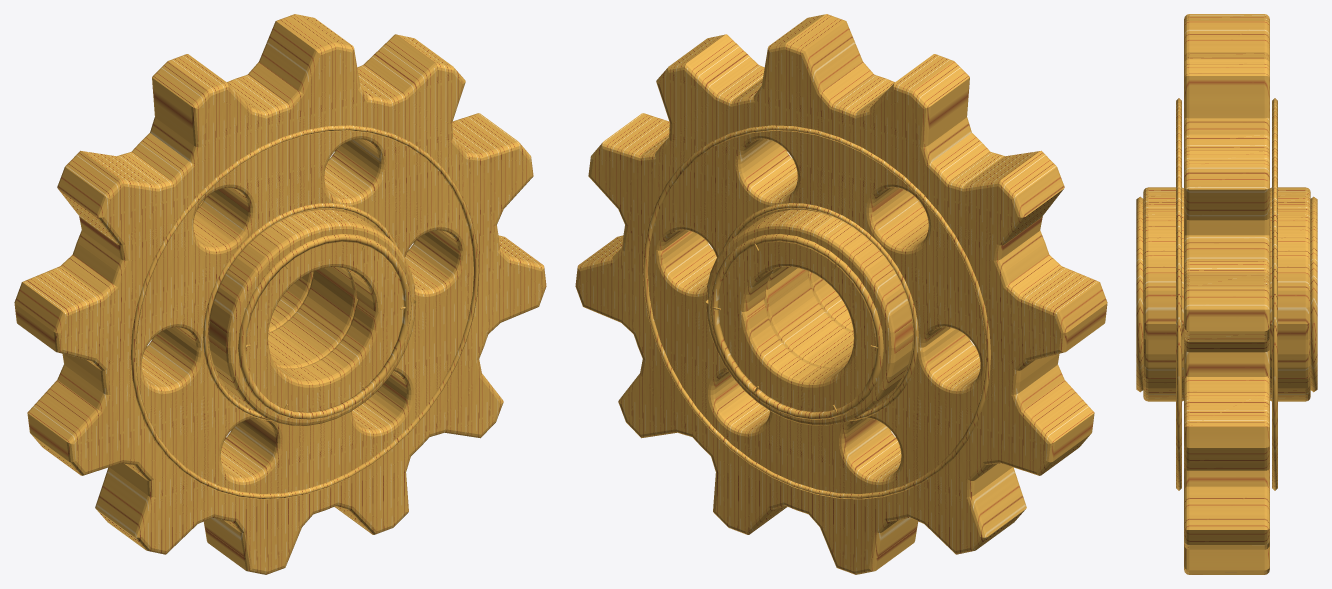
The model's file is source-workshop-cog.glb.
3 views of the same model, side by side, from view 1: azimuth 30°, elevation 25°; view 2: azimuth 150°, elevation 25°; view 3: azimuth 270°, elevation 25° (orthographic). The views are drawn at different scales.
Parts seen in each view (by area): view 1: brass; view 2: brass; view 3: brass.
Boxes of the visible parts, x1=… form: brass: x1=14, y1=14, x2=546, y2=574; brass: x1=575, y1=14, x2=1107, y2=574; brass: x1=1136, y1=14, x2=1317, y2=574.
Bounding box in the file's own units: 0.2724 × 0.2724 × 0.0888.
Materials: 1 (1 with a texture image).
